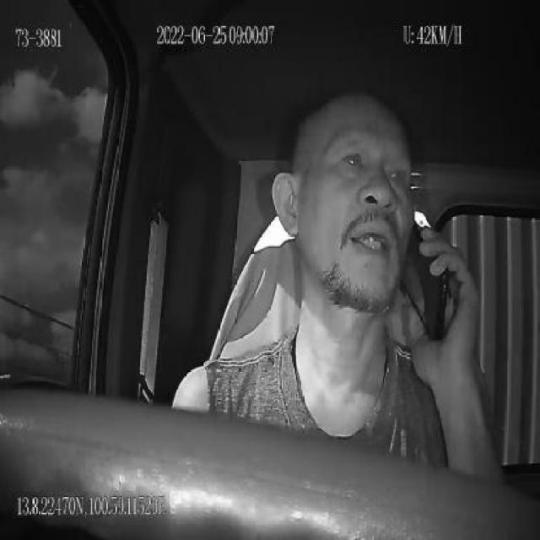phone: (400, 221, 450, 343)
